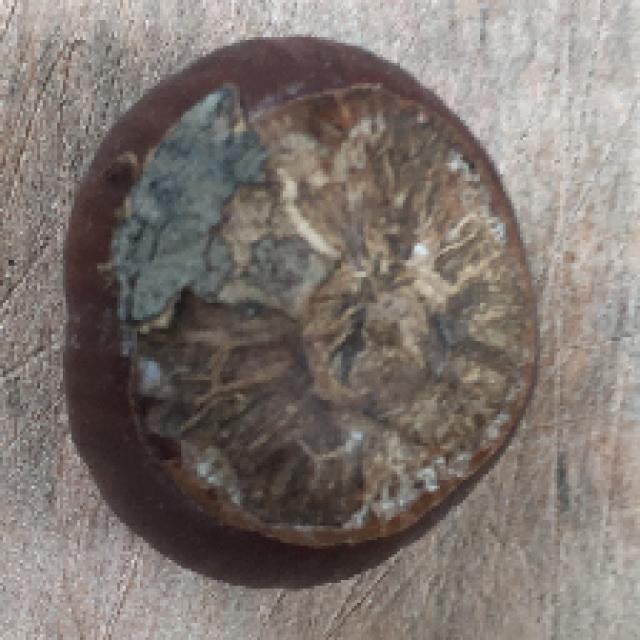damagedHazelnut: (59, 25, 550, 597)
